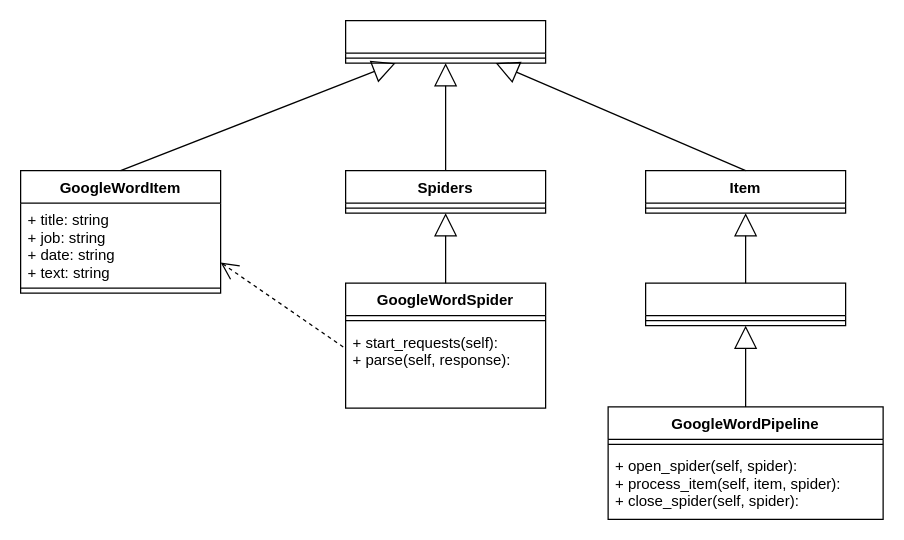
The diagram is 904 pixels wide and 540 high, and some of its shapes have lost their labels. The shapes that lost their labels are listed below. From the top down, each one's centre as x and y in pixels, then its label:
At point (445, 41): "Scrapy".
At point (745, 304): "ItemAdapter".
